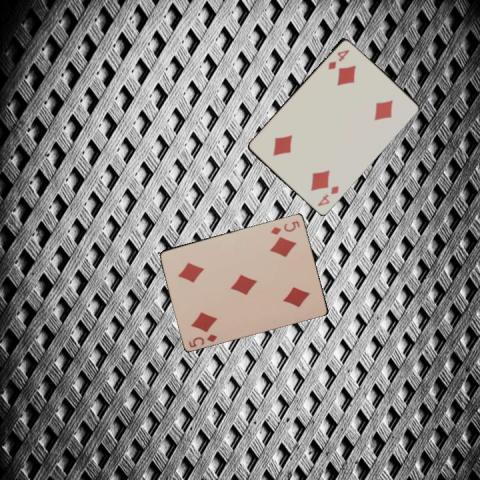4d: (314, 183, 340, 208), (325, 47, 351, 71)
5d: (268, 217, 301, 236), (186, 330, 219, 348)
